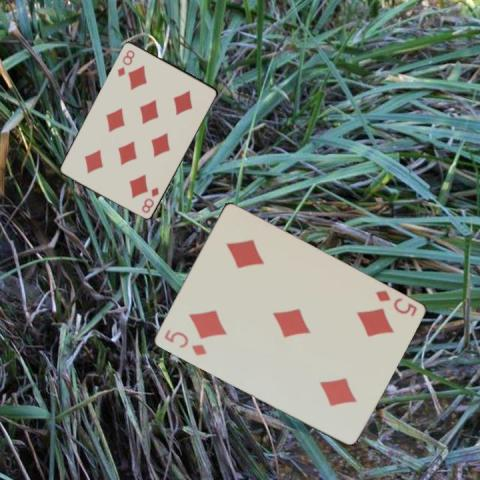5d: (161, 326, 208, 358), (372, 287, 419, 318)
8d: (114, 47, 136, 78), (139, 184, 160, 214)
